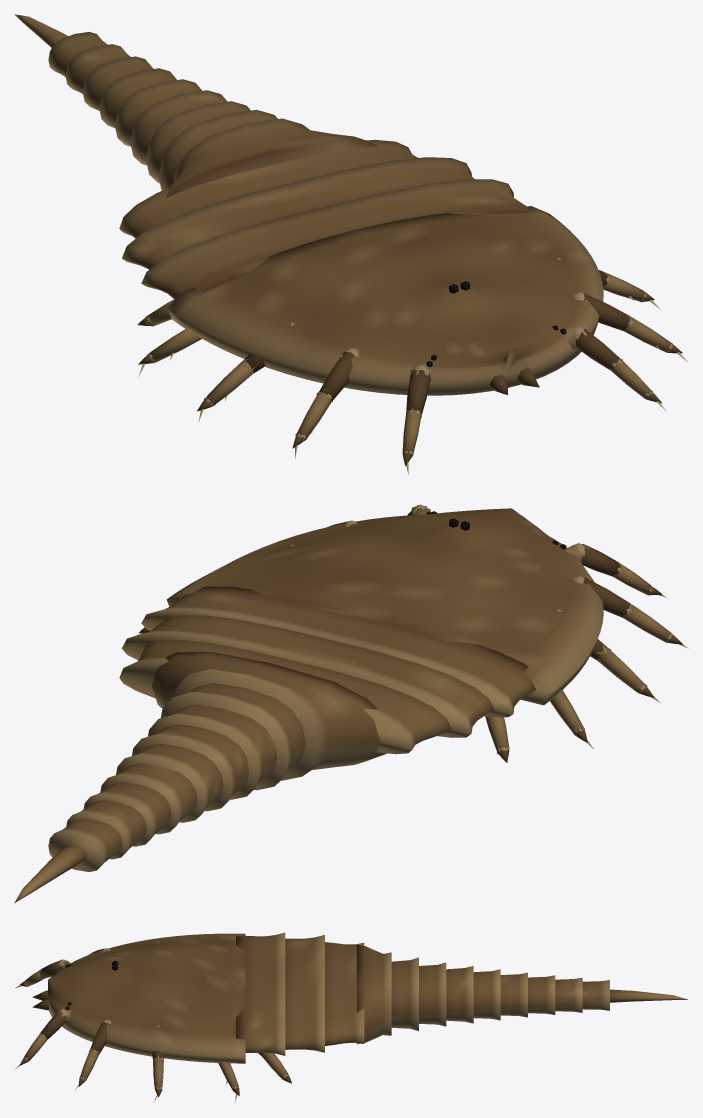
Rendered from ChasmataspisLaurencii.fbx.
3 renders of one model, top to bottom at view 1: azimuth 30°, elevation 25°; view 2: azimuth 150°, elevation 25°; view 3: azimuth 270°, elevation 25°, orthographic. The views are drawn at different scales.
Visible parts, largest first — view 1: ChasmataspisLaurencii; view 2: ChasmataspisLaurencii; view 3: ChasmataspisLaurencii.
Boxes of the visible parts, x1=… form: ChasmataspisLaurencii: x1=14, y1=14, x2=687, y2=474; ChasmataspisLaurencii: x1=14, y1=504, x2=688, y2=903; ChasmataspisLaurencii: x1=14, y1=932, x2=687, y2=1102.
Bounding box in the file's own units: 0.8703 × 0.1955 × 1.71.
